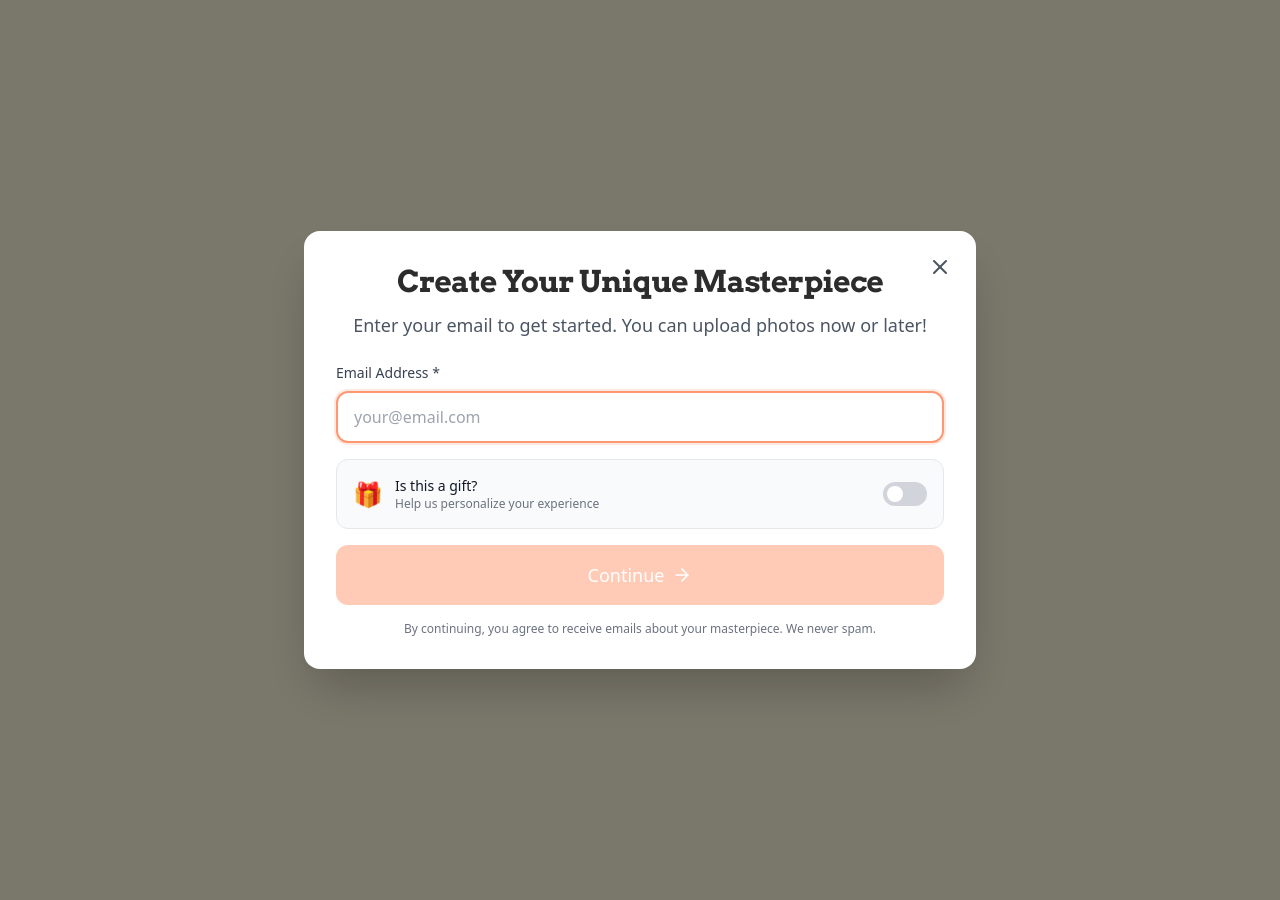
Scenario: UploadModalEmailFirst - Plausible Analytics Tracking › 6. Error Tracking › should track email validation errors
Type "invalid-email" into the field with placeholder "your@email.com" at (640, 417), box [336,391,944,443]
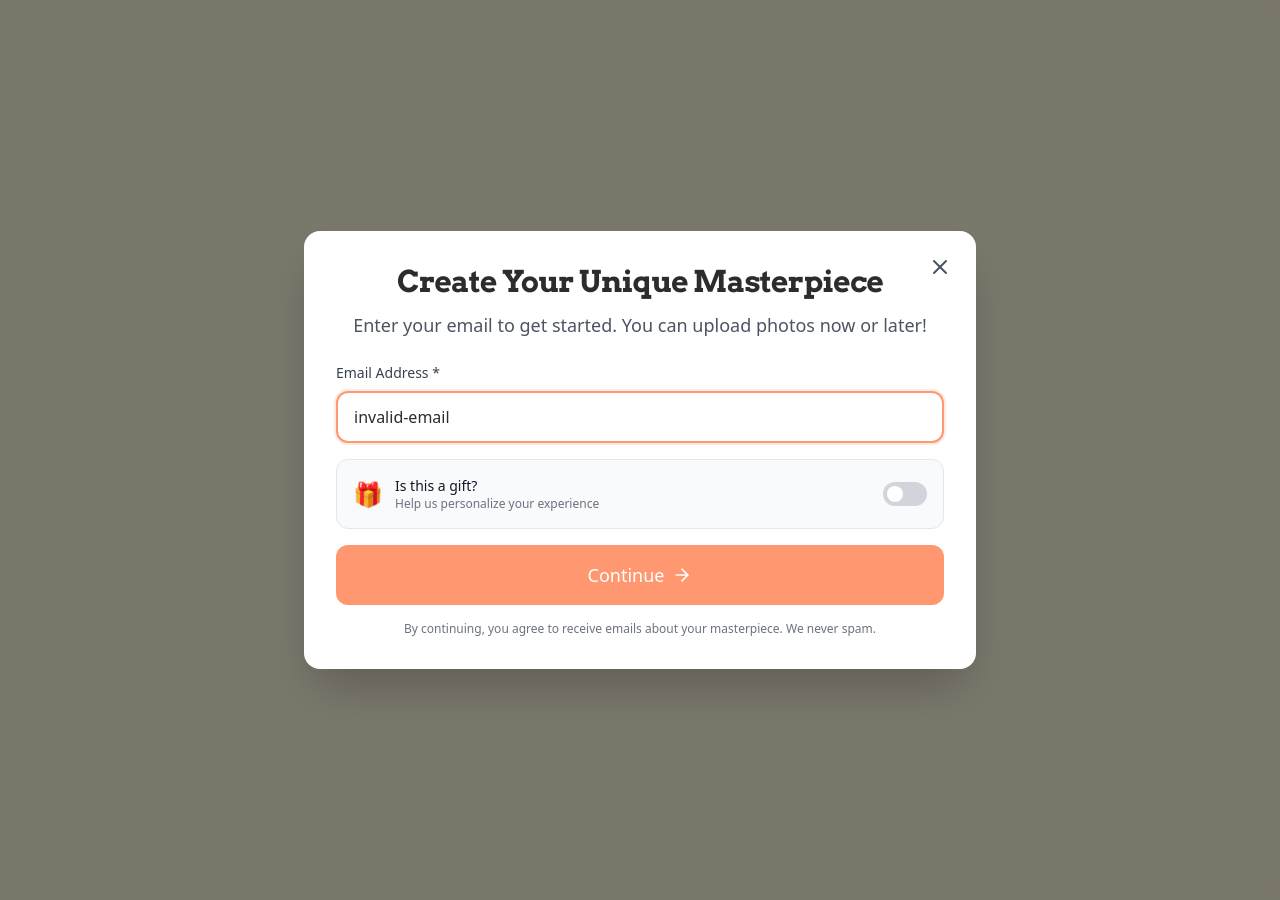
Click the button "Continue" at (640, 575), box [336,545,944,605]
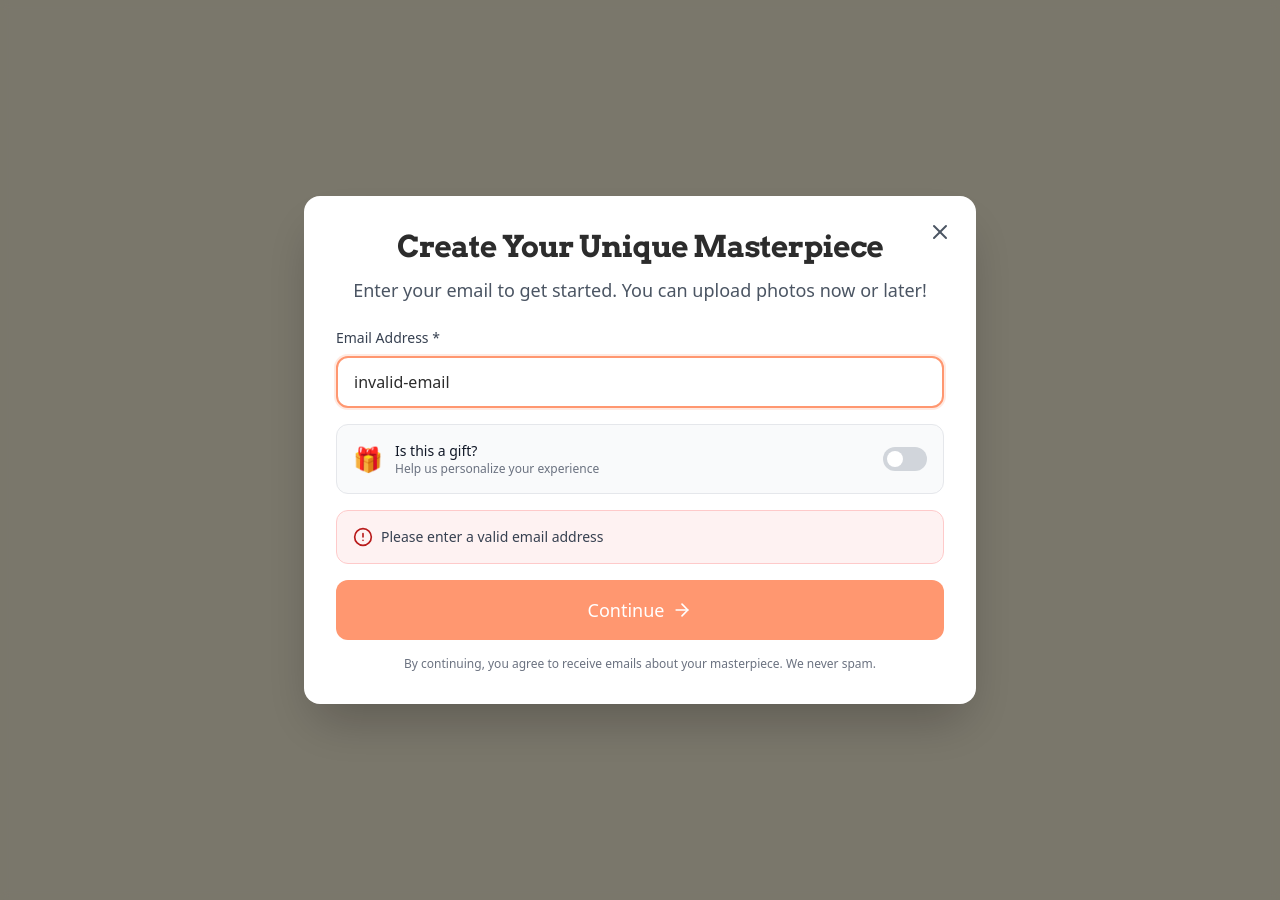
Check: the text "Please enter a valid email address" is shown, box [381,527,604,547]
